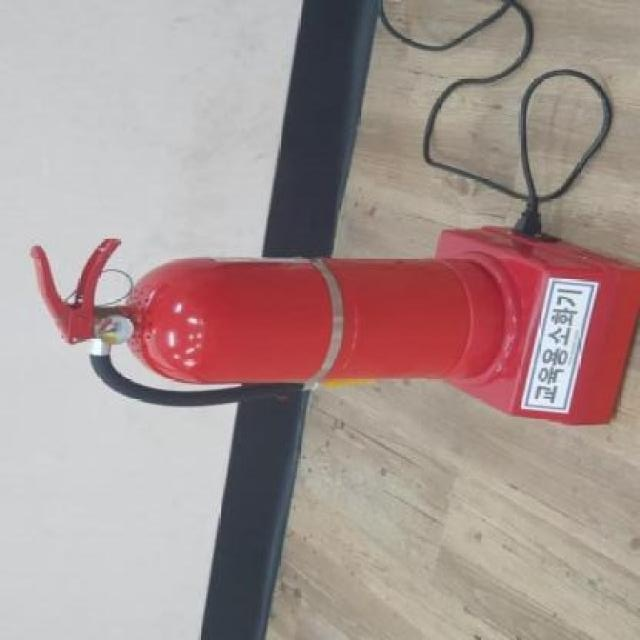fire extinguisher: (31, 238, 503, 407)
